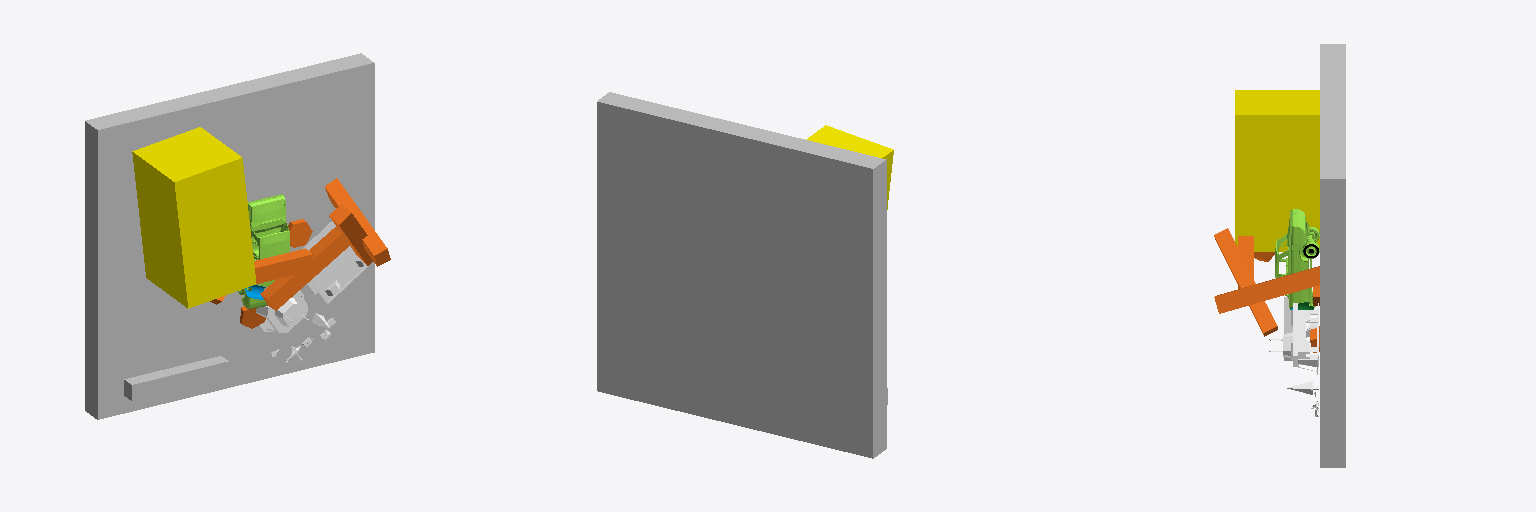
Rendered from tbr_Moskvitch.obj.
3 views of the same model, side by side, from view 1: azimuth 30°, elevation 25°; view 2: azimuth 150°, elevation 25°; view 3: azimuth 270°, elevation 25° (orthographic).
Visible parts, largest first — view 1: Object.4, Object.3, Object.7, Object.6, Object.5, Object.10, Object.9; view 2: Object.4, Object.3; view 3: Object.3, Object.4, Object.7, Object.6, Object.10, Object.9.
Part boxes in pixels (left/top/right/bottom): Object.4: left=85, top=53, right=374, bottom=419; Object.3: left=132, top=127, right=255, bottom=308; Object.7: left=254, top=178, right=390, bottom=310; Object.6: left=238, top=194, right=289, bottom=308; Object.5: left=124, top=356, right=228, bottom=400; Object.10: left=303, top=221, right=372, bottom=303; Object.9: left=256, top=287, right=308, bottom=332; Object.4: left=597, top=92, right=886, bottom=458; Object.3: left=806, top=125, right=893, bottom=209; Object.3: left=1235, top=90, right=1319, bottom=251; Object.4: left=1320, top=44, right=1345, bottom=467; Object.7: left=1214, top=228, right=1319, bottom=336; Object.6: left=1275, top=209, right=1319, bottom=309; Object.10: left=1291, top=303, right=1318, bottom=366; Object.9: left=1269, top=317, right=1317, bottom=374.
Size of the model in its own units: 30887 by 30888 by 12738.